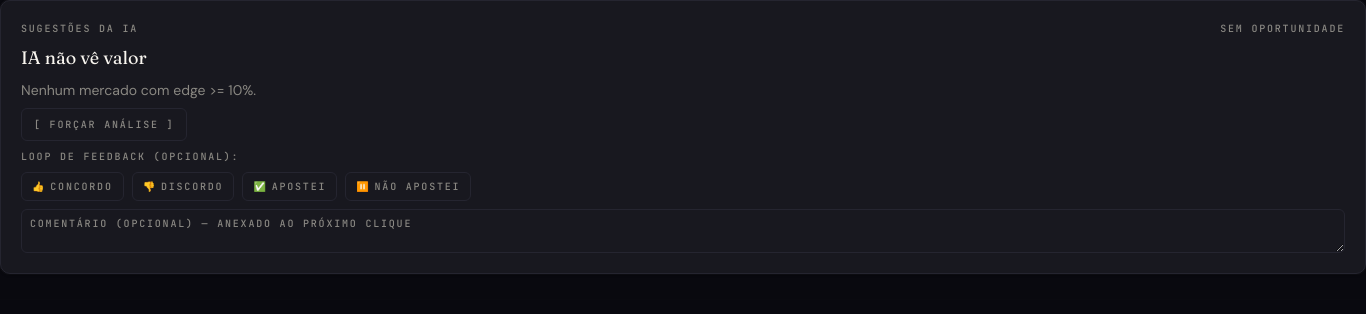
it: <AiRecoPanel> — force analysis button in skip state › shows error message when force request fails
The image size is (1366, 314).
Click the button with test id "force-analysis-btn" at x=104, y=124, box [21, 108, 187, 141]
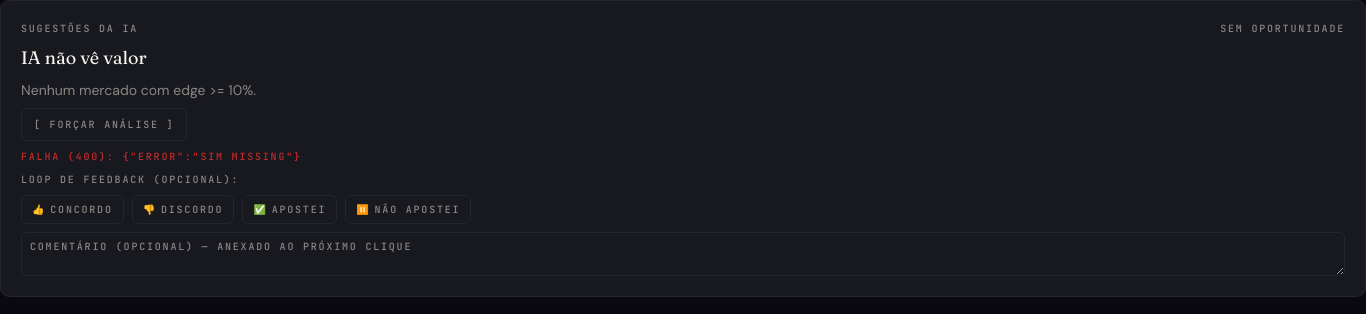
Expected: the message "falha (400): {\"error\":\"sim missing\"}" is shown, [21, 150, 302, 163]
